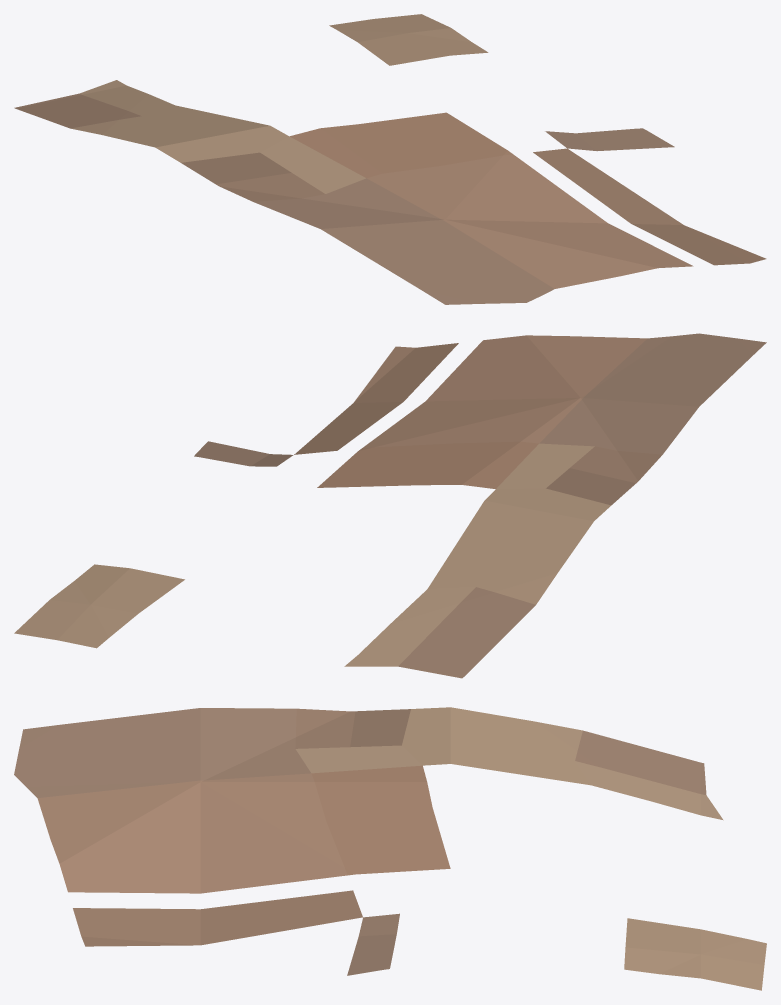
The model's file is farm_-50_-46_soil.glb.
3 views of the same model, one above another, from view 1: azimuth 30°, elevation 25°; view 2: azimuth 150°, elevation 25°; view 3: azimuth 270°, elevation 25° (orthographic). The views are drawn at different scales.
Visible parts, largest first — view 1: geometry_0; view 2: geometry_0; view 3: geometry_0.
Part boxes in pixels (x1,y1,x2,y2): geometry_0: (14,14,766,304); geometry_0: (14,333,766,678); geometry_0: (14,707,766,990).
Size of the model in its own units: 159 by 35.73 by 241.
